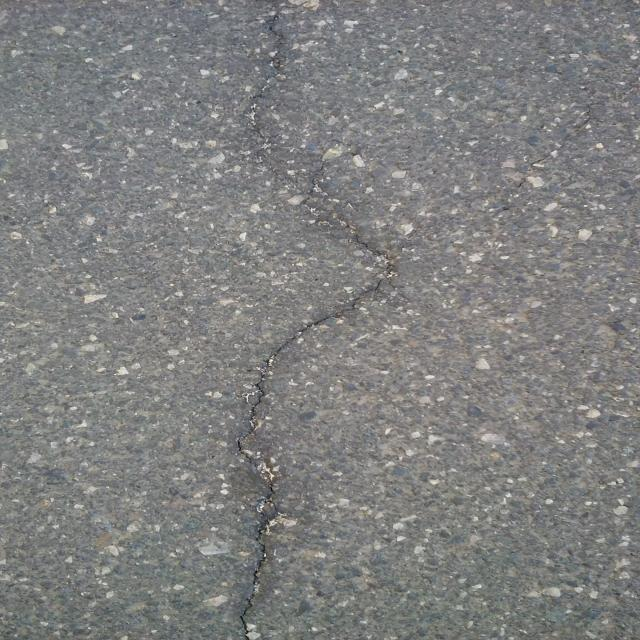Longitudial: (196, 0, 420, 640)
